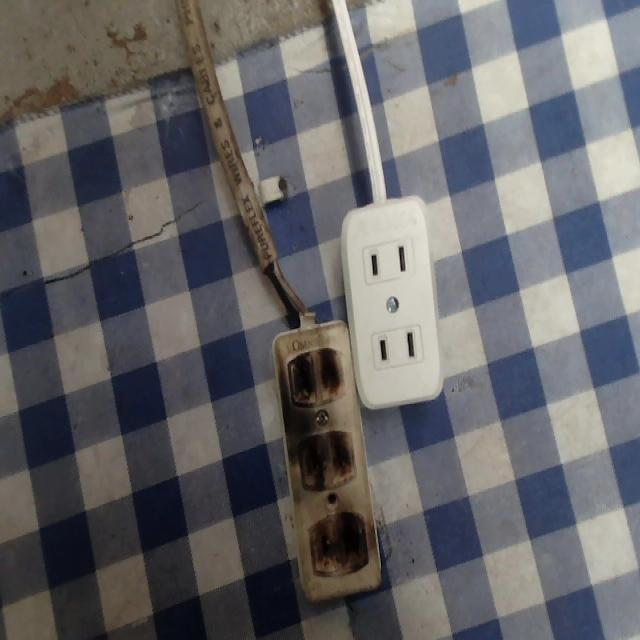-: (302, 507, 370, 585), (295, 430, 361, 490), (287, 343, 344, 409)
